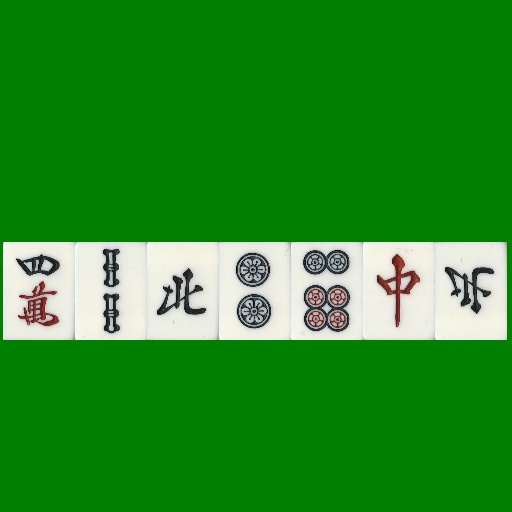2p: (219, 242, 291, 340)
2s: (75, 242, 147, 340)
4m: (3, 242, 75, 340)
6p: (291, 242, 363, 340)
north: (147, 242, 219, 340), (435, 242, 507, 340)
tyun: (363, 242, 435, 340)
